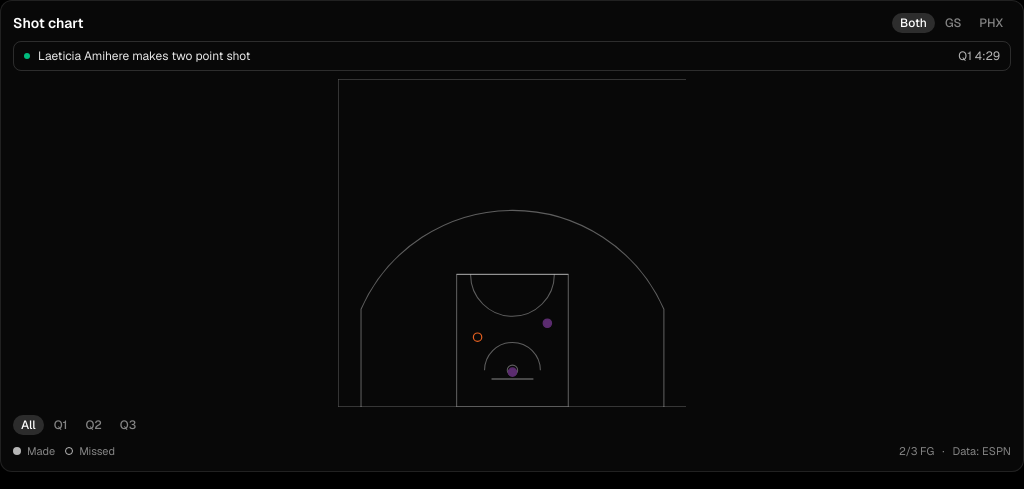
ShotChart › filters shots by period under the chart
The width and height of the screenshot is (1024, 489).
Expected: the button "All" is shown, [13, 415, 44, 435]
Expected: the button "Q2" is shown, [78, 415, 110, 435]
Click the button "Q1" at {"x": 61, "y": 425}, box [46, 415, 76, 435]
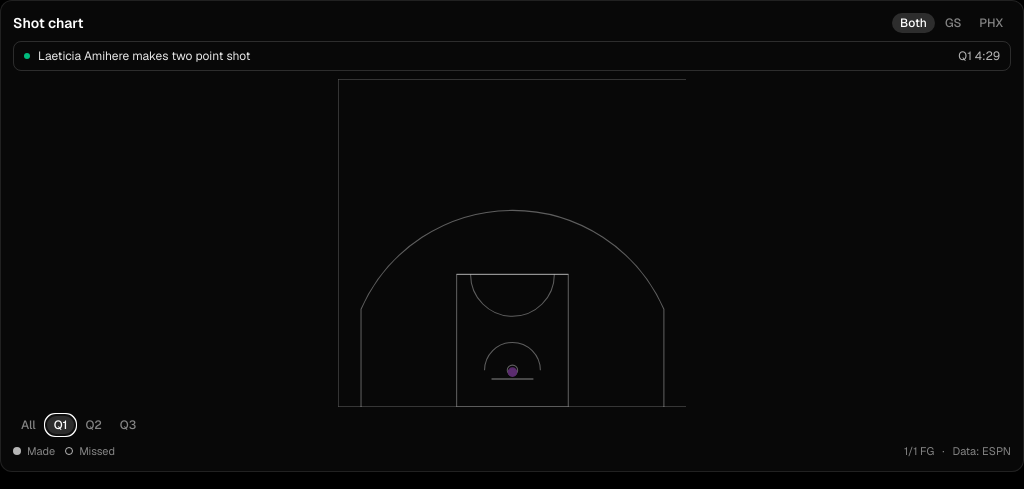
Expected: the picture "A. Player" is shown, [508, 368, 516, 376]
Expected: the text "1/1 FG" is shown, [904, 443, 934, 460]
Click the button "All" at {"x": 28, "y": 425}, box [13, 415, 44, 435]
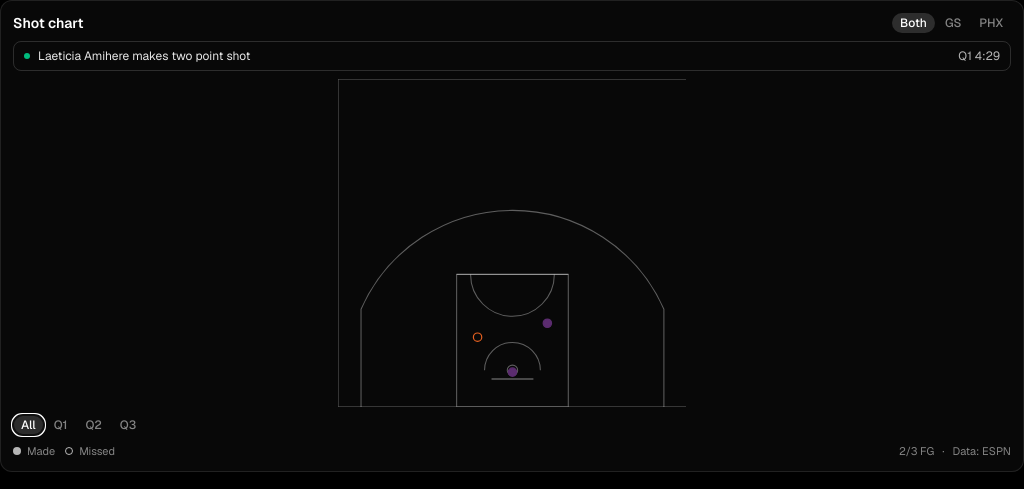
Expected: the picture "A. Player" is shown, [508, 368, 516, 376]
Expected: the text "2/3 FG" is shown, [899, 443, 934, 460]
